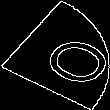O_NW: (9, 22, 101, 88)
